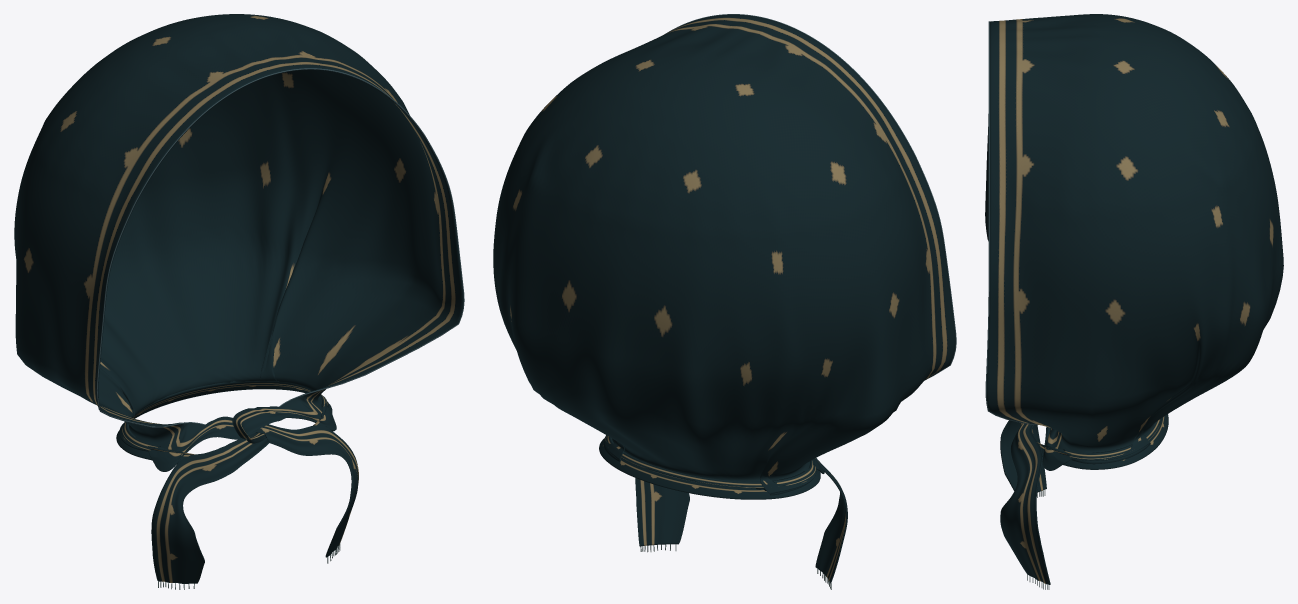
The model's file is Feminine-open-pashmina243-headgear.glb.
The picture shows the model from 3 angles, left to right: view 1: azimuth 30°, elevation 25°; view 2: azimuth 150°, elevation 25°; view 3: azimuth 270°, elevation 25°; orthographic projection. The views are drawn at different scales.
Visible parts, largest first — view 1: 226 headgear / Headwear / continuous woven pashmina239, 226 headgear / Headwear / face edge239; view 2: 226 headgear / Headwear / continuous woven pashmina239, 226 headgear / Headwear / face edge239; view 3: 226 headgear / Headwear / continuous woven pashmina239, 226 headgear / Headwear / face edge239.
Boxes of the visible parts, left/top/right/bottom form: 226 headgear / Headwear / continuous woven pashmina239: left=14, top=14, right=463, bottom=583; 226 headgear / Headwear / face edge239: left=96, top=68, right=464, bottom=427; 226 headgear / Headwear / continuous woven pashmina239: left=493, top=14, right=955, bottom=583; 226 headgear / Headwear / face edge239: left=664, top=14, right=956, bottom=379; 226 headgear / Headwear / continuous woven pashmina239: left=985, top=14, right=1283, bottom=584; 226 headgear / Headwear / face edge239: left=985, top=21, right=1037, bottom=424.
Bounding box in the file's own units: 1.02 × 1.35 × 0.7116.
3 materials, 1 textured.
